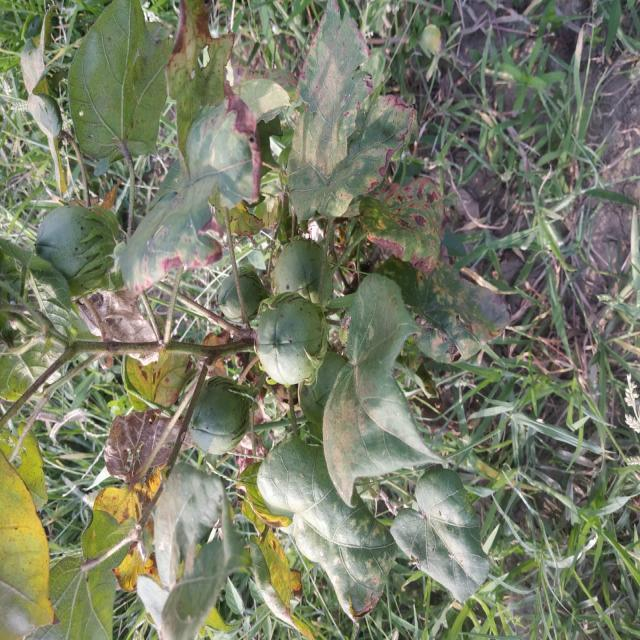Early Boll: (248, 296, 338, 392), (24, 202, 117, 285), (185, 372, 251, 460), (213, 269, 259, 317)
